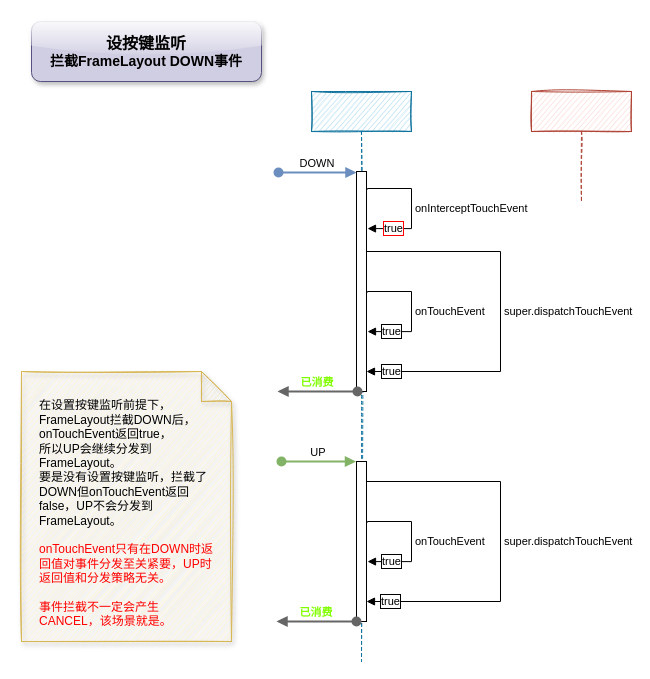
This 650x679 diagram has some shape labels left out. Each missing label, with the centre of its shape:
":FrameLayout" belongs at point 361,376.
":TextView" belongs at point 581,146.
